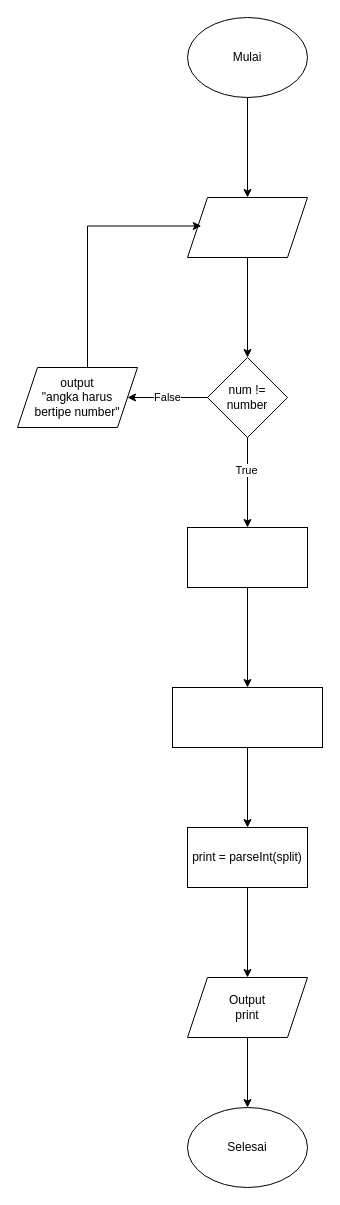
The diagram is 340 pixels wide and 1205 high, and some of its shapes have lost their labels. The shapes that lost their labels are listed below. From the top down, each one's box as (x1, y1, x2, y2) in pixels, then its label:
(186, 196, 308, 258): input num
(186, 526, 308, 588): split = num.toString().split(0) result = ""
(172, 686, 322, 748): split.map(e => { x = e.split('').sort().join('') result += Number(x) })
